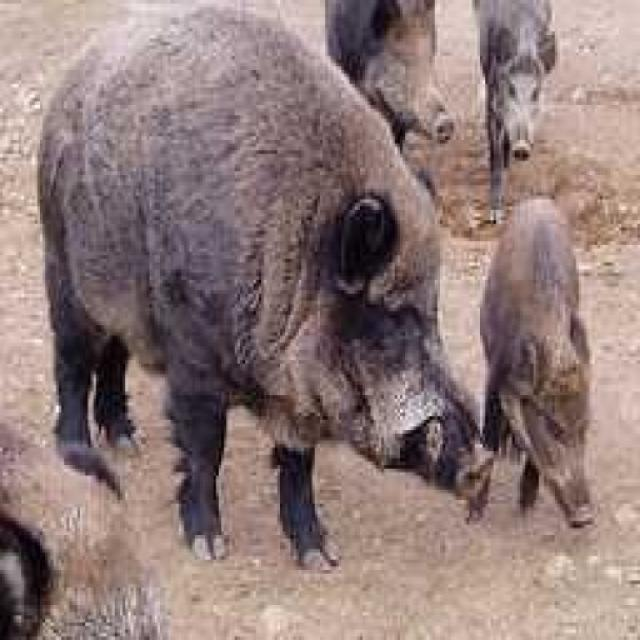pig: (32, 12, 472, 530), (486, 188, 640, 562), (478, 0, 576, 175), (340, 0, 468, 132)
